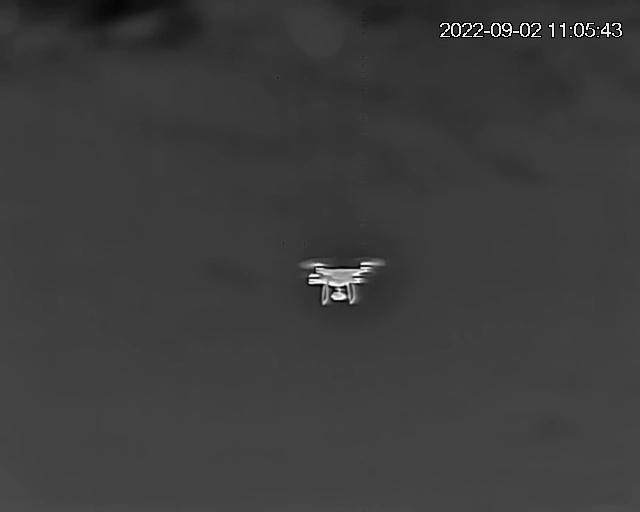DJI-Phantom: (305, 260, 385, 305)
